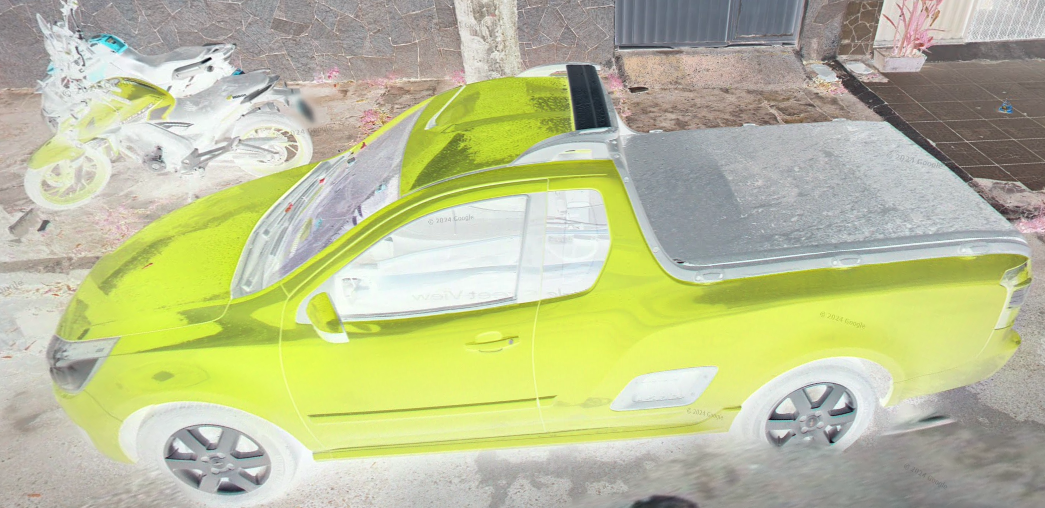car: (47, 72, 1036, 496)
